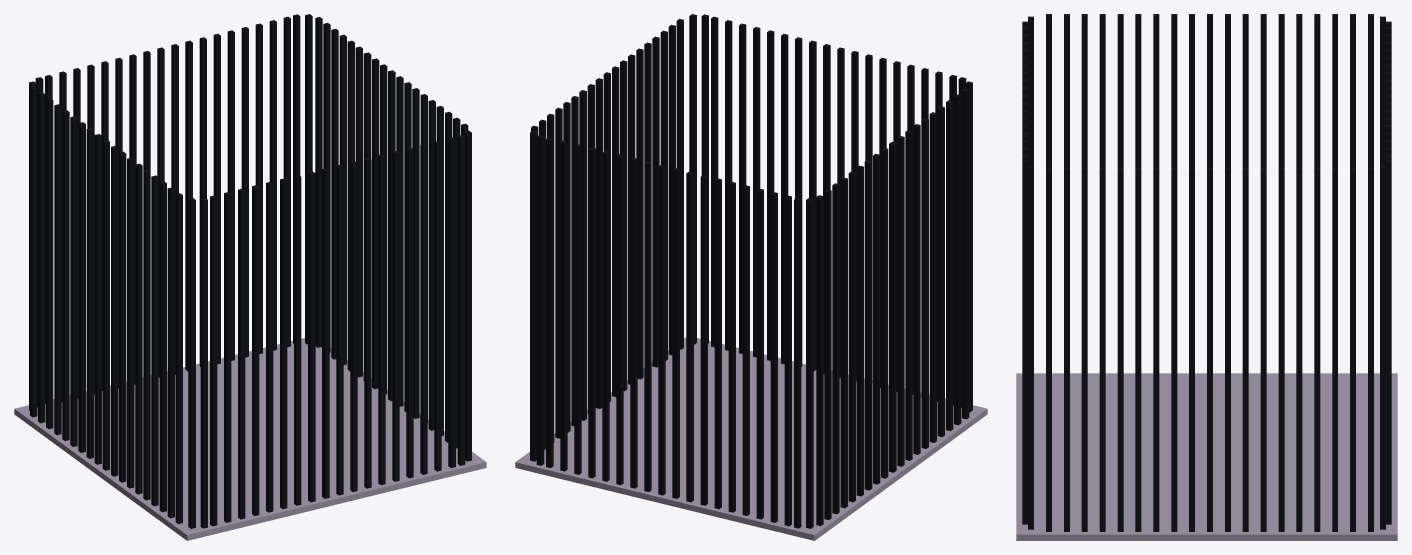
The model's file is sci-fi-cage.fbx.
The picture shows the model from 3 angles, left to right: view 1: azimuth 30°, elevation 25°; view 2: azimuth 150°, elevation 25°; view 3: azimuth 270°, elevation 25°; orthographic projection. The views are drawn at different scales.
Visible parts, largest first — view 1: Cube; view 2: Cube; view 3: Cube.
Part boxes in pixels (x1,y1,x2,y2): Cube: (14, 14, 486, 540); Cube: (515, 14, 987, 540); Cube: (1016, 14, 1397, 540).
Size of the model in its own units: 470 by 500 by 470.
1 material, 1 textured.
